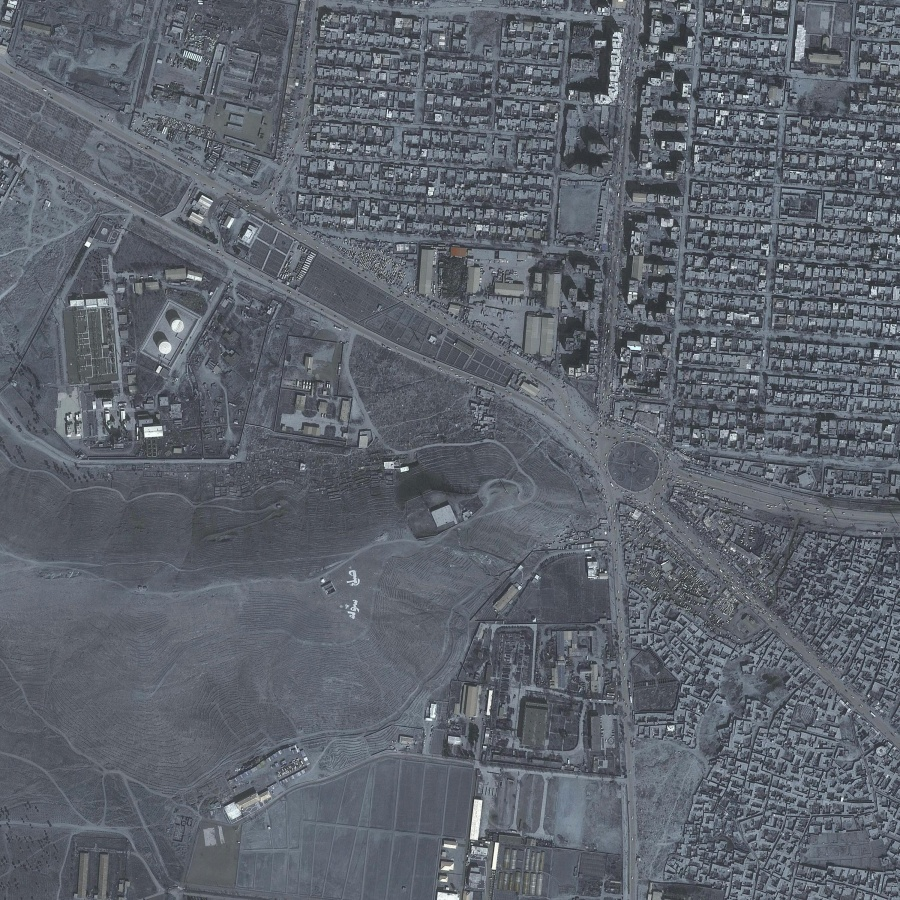PowerPlant: (65, 261, 208, 452)
